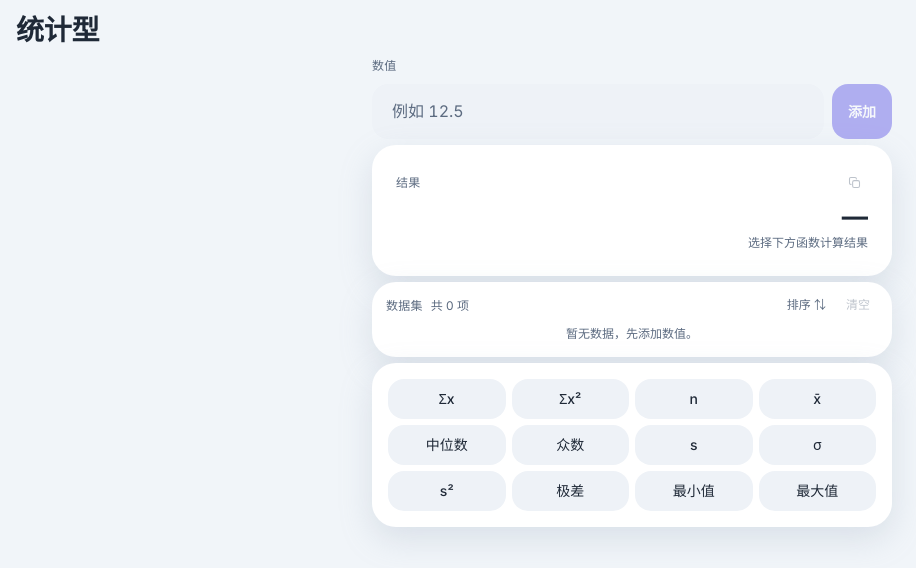
Test case: StatisticsPage › adds a typed value and clears the input on success
In the field labelled "数值": [598, 111] box x1=372 y1=84 x2=824 y2=139, type "12.5"
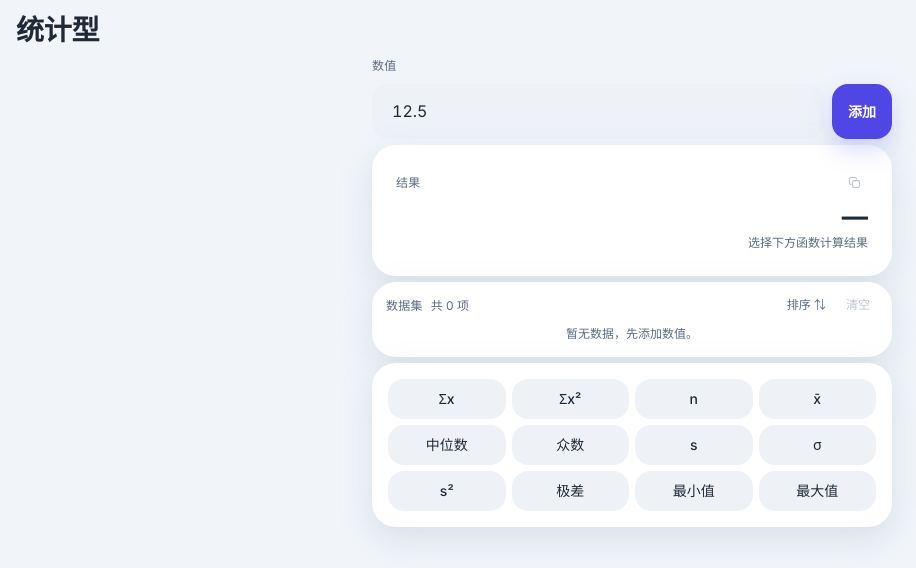
Click the button "添加": [862, 111] box x1=832 y1=84 x2=892 y2=139
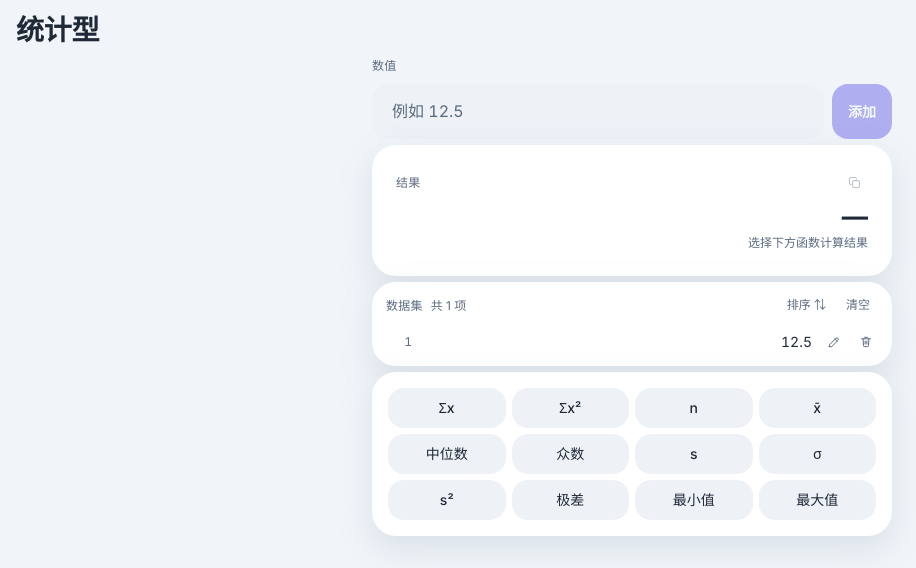
Check: the field labelled "数值" is empty, box x1=372 y1=84 x2=824 y2=139
Check: the text "12.5" is shown, box x1=781 y1=333 x2=812 y2=350
